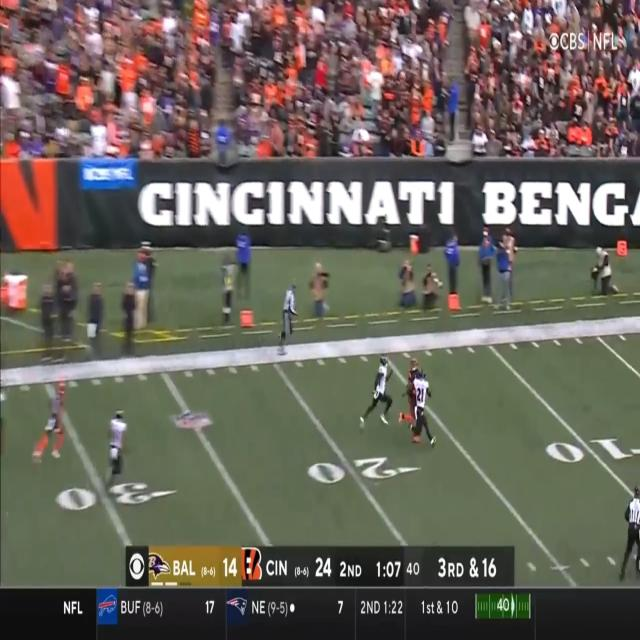Ball: (431, 100, 445, 124)
